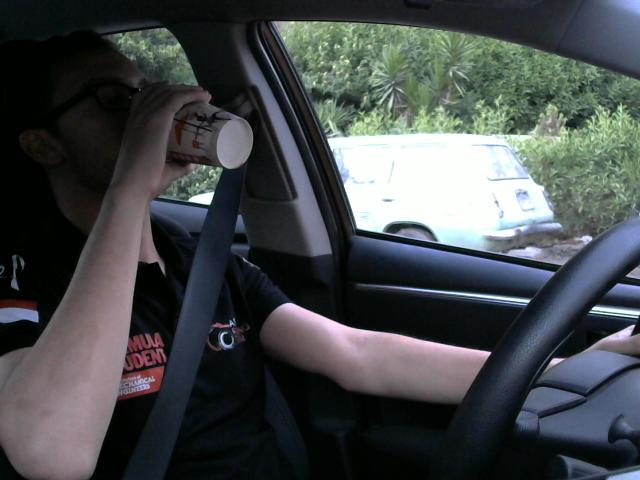Drinking: (126, 86, 262, 175)
